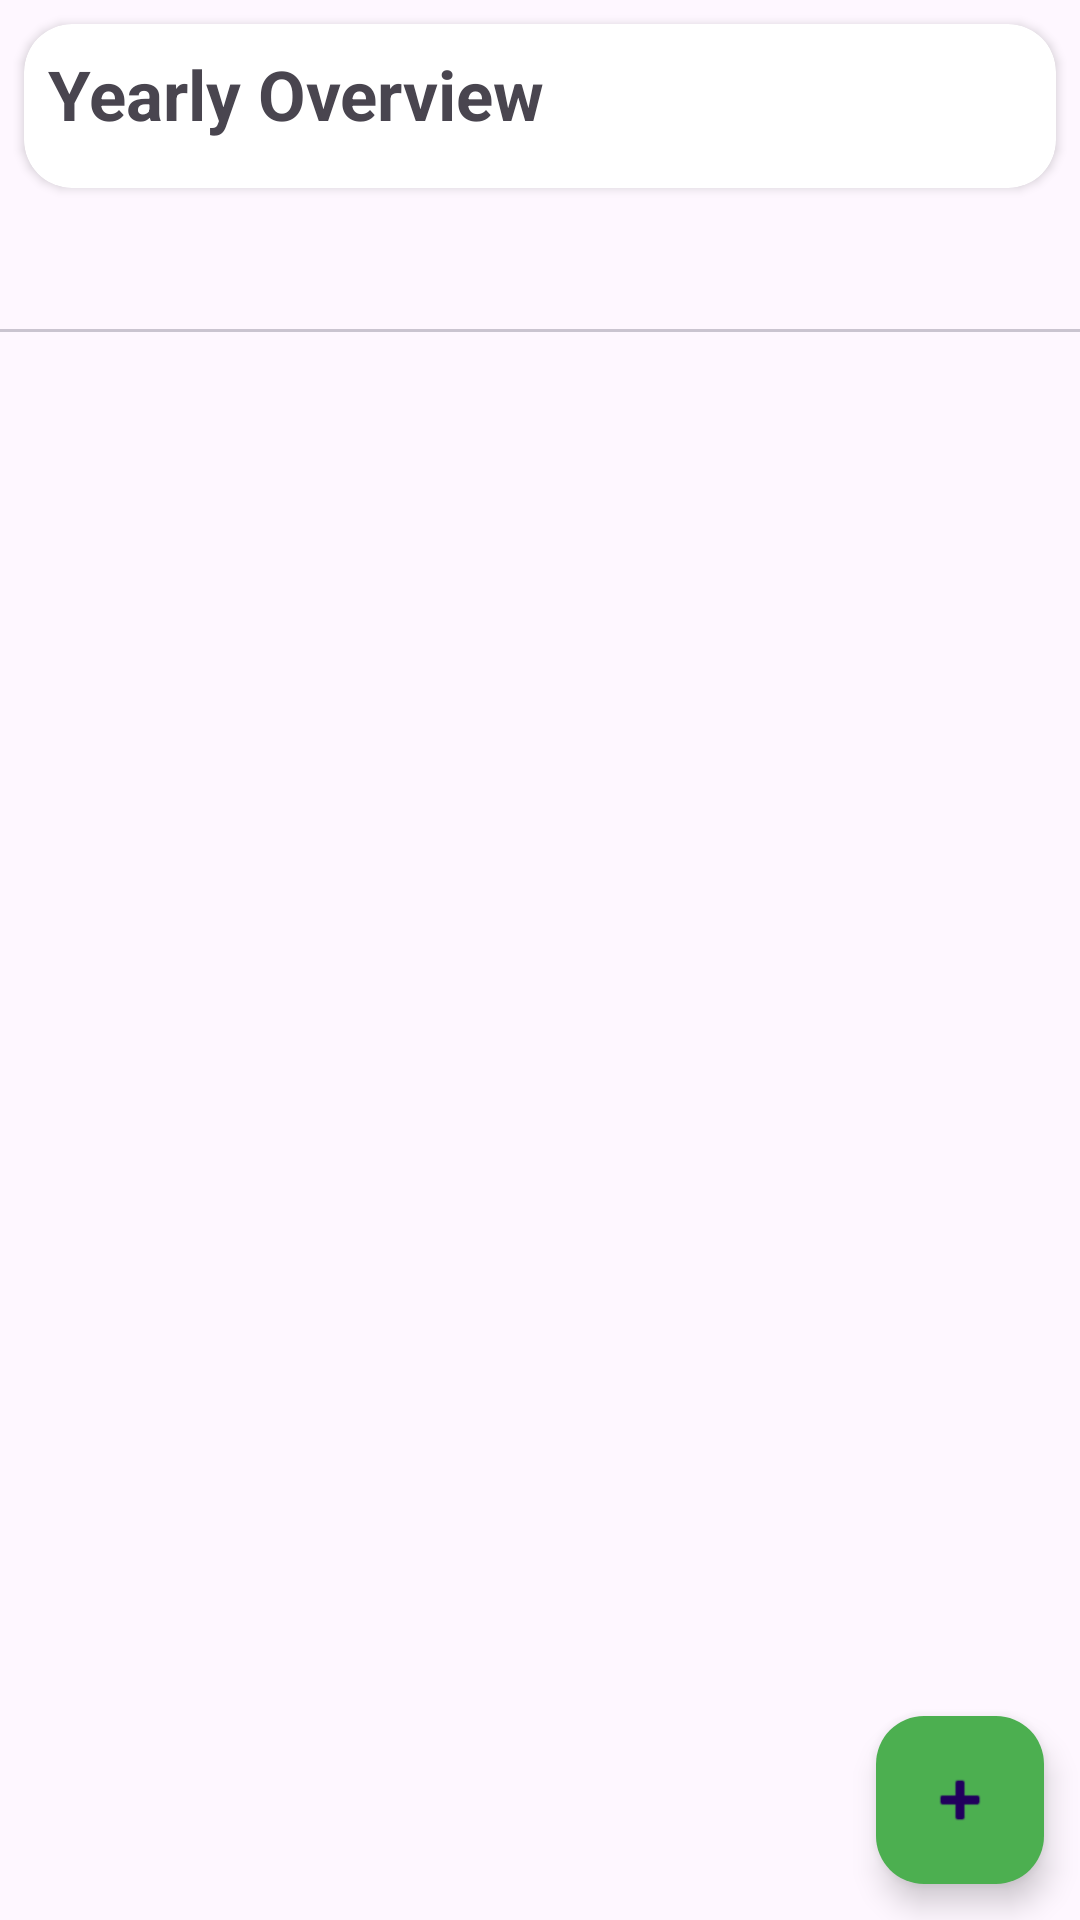

Locate icon controls on the screen. Image size 1080 x 1920, boxes as BBox(x1, y1, x2, y2).
add: BBox(876, 1716, 1044, 1884)
